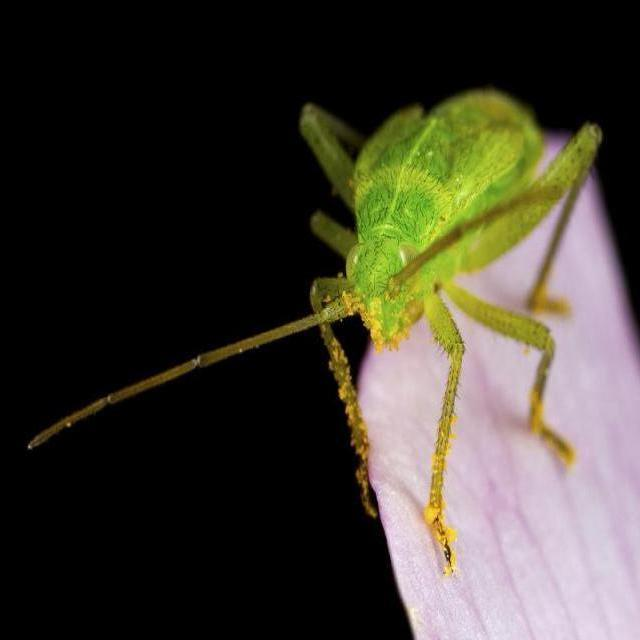aphid: (294, 90, 580, 532)
